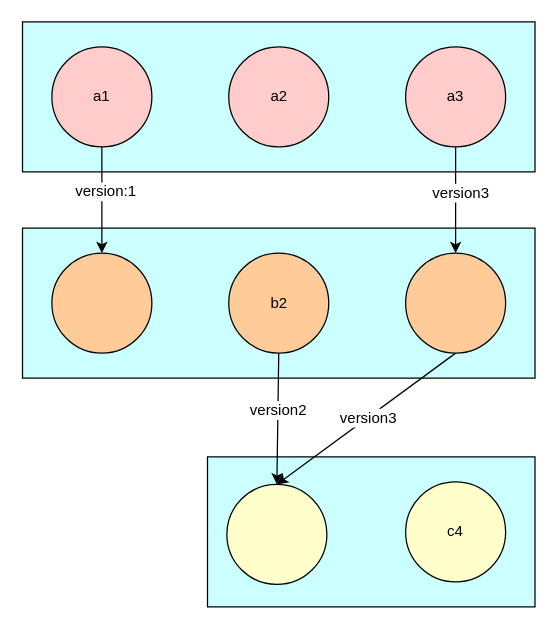
Some shapes in this 556 by 629 pixel diagram are drawn without their labels. Here are the shapes that lost their labels. From the top down, the box of each, then its label:
(51, 252, 152, 353): b1
(404, 252, 506, 353): b3
(226, 483, 327, 584): c2
